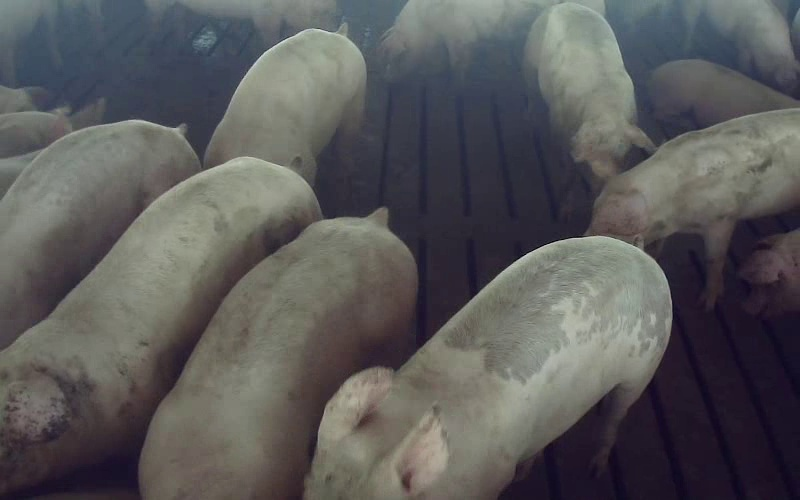pig: (0, 156, 320, 494), (305, 237, 671, 499), (139, 209, 416, 499), (0, 120, 200, 349), (586, 108, 799, 308), (205, 23, 366, 185), (523, 3, 654, 181), (379, 0, 558, 79)
